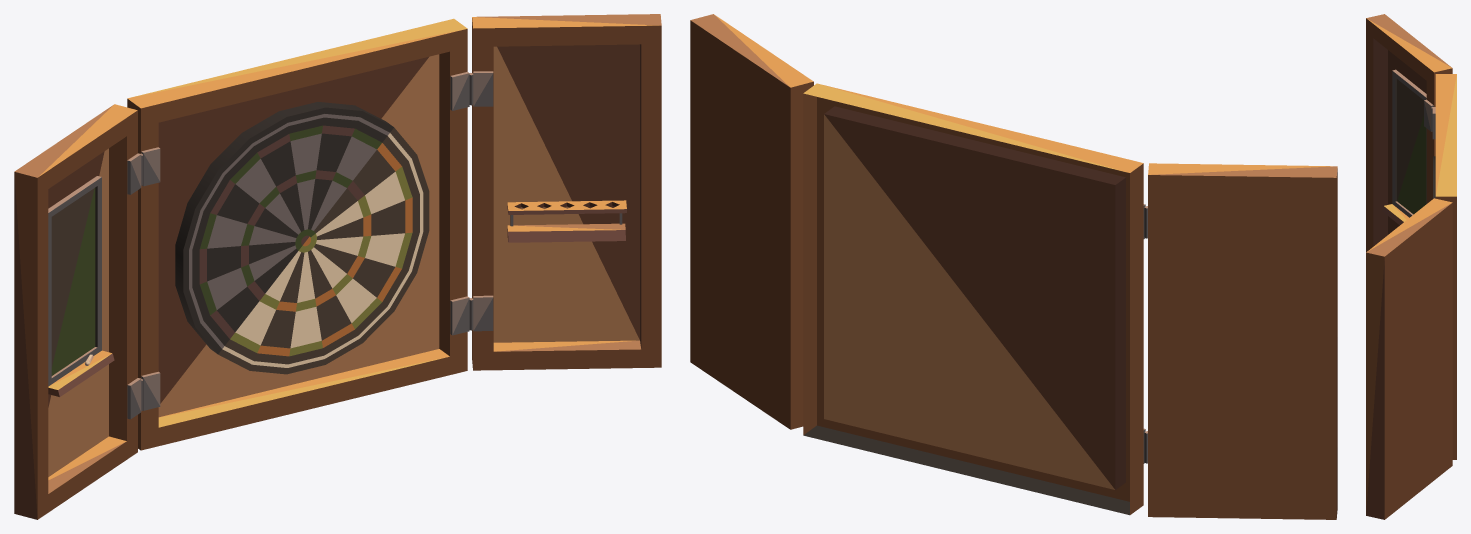
The model's file is dart_board.fbx.
3 views of the same model, side by side, from view 1: azimuth 30°, elevation 25°; view 2: azimuth 150°, elevation 25°; view 3: azimuth 270°, elevation 25° (orthographic). The views are drawn at different scales.
Parts seen in each view (by area): view 1: pCylinder6; view 2: pCylinder6; view 3: pCylinder6.
Part boxes in pixels (<box>): pCylinder6: <box>14,14,661,519</box>; pCylinder6: <box>690,14,1337,519</box>; pCylinder6: <box>1366,14,1456,519</box>.
Bounding box in the file's own units: 122 × 61.91 × 19.35.
